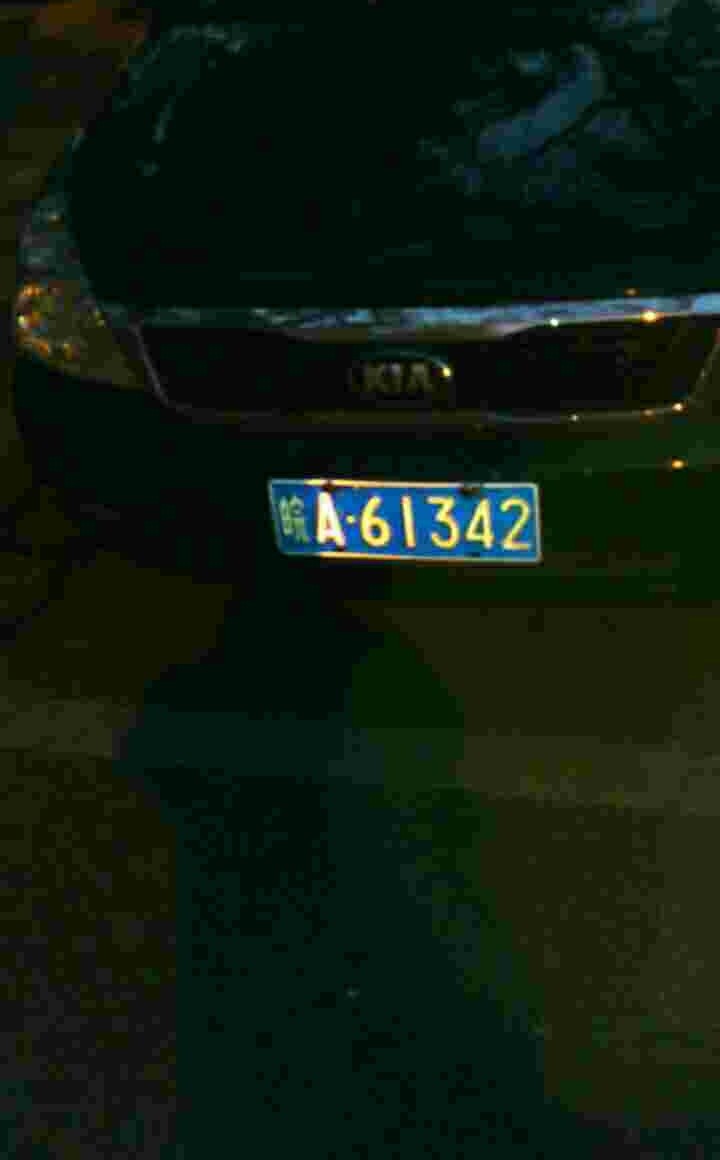license_plate: (268, 482, 542, 555)
